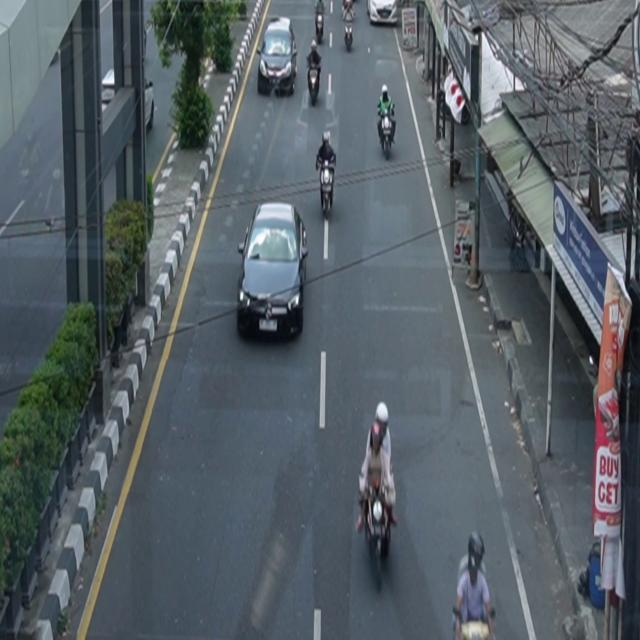car: (238, 202, 310, 341), (102, 68, 155, 134), (257, 17, 299, 98), (367, 1, 398, 26)
